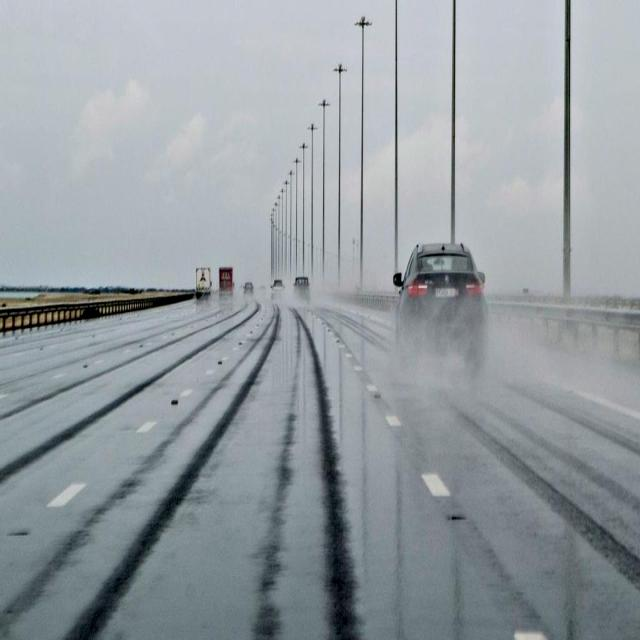Car: (392, 235, 493, 372), (293, 276, 311, 306), (270, 278, 286, 300), (241, 280, 254, 302)
Truck: (218, 266, 235, 303), (195, 265, 212, 301)
